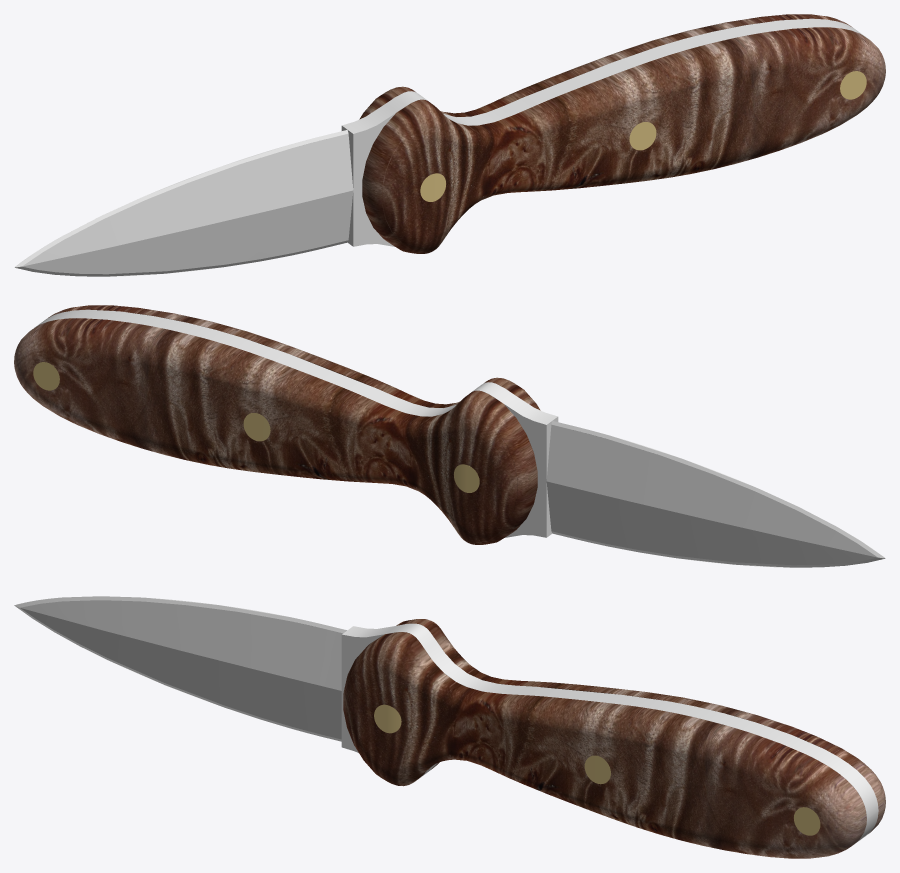
File: dagger_v1.glb
3 views of the same model, one above another, from view 1: azimuth 30°, elevation 25°; view 2: azimuth 150°, elevation 25°; view 3: azimuth 330°, elevation 25° (orthographic).
Parts seen in each view (by area): view 1: scales, blade, pins; view 2: scales, blade, pins; view 3: scales, blade, pins.
Part boxes in pixels (x1,y1,x2,y2): scales: (359, 14, 885, 253); blade: (14, 18, 865, 276); pins: (420, 71, 866, 201); scales: (14, 305, 540, 544); blade: (34, 309, 885, 567); pins: (33, 362, 479, 492); scales: (343, 619, 885, 858); blade: (14, 596, 878, 844); pins: (374, 704, 820, 835).
Size of the model in its own units: 17.16 by 2.84 by 1.6.
3 materials, 1 textured.
